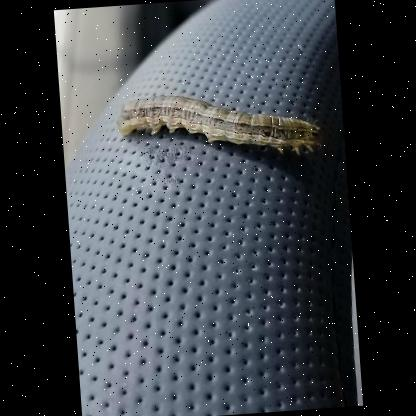Fall Armyworm Larvae: (111, 81, 328, 173)
